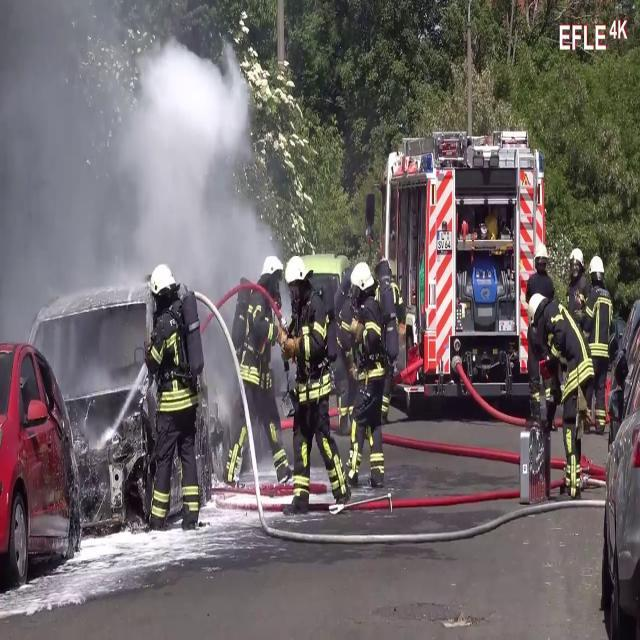Smoke: (0, 1, 282, 339)
